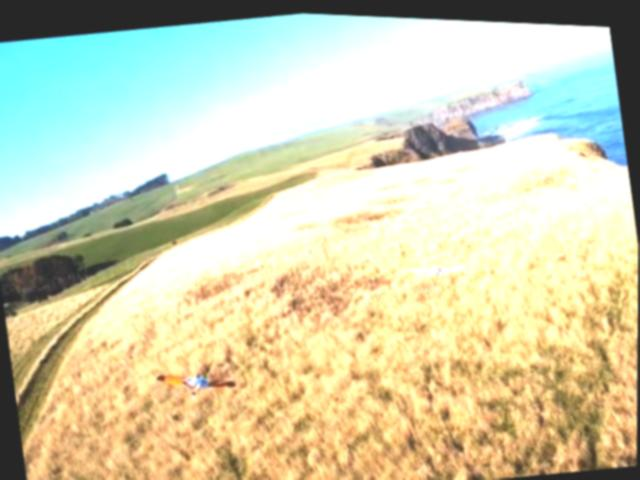uav: (154, 357, 241, 401)
